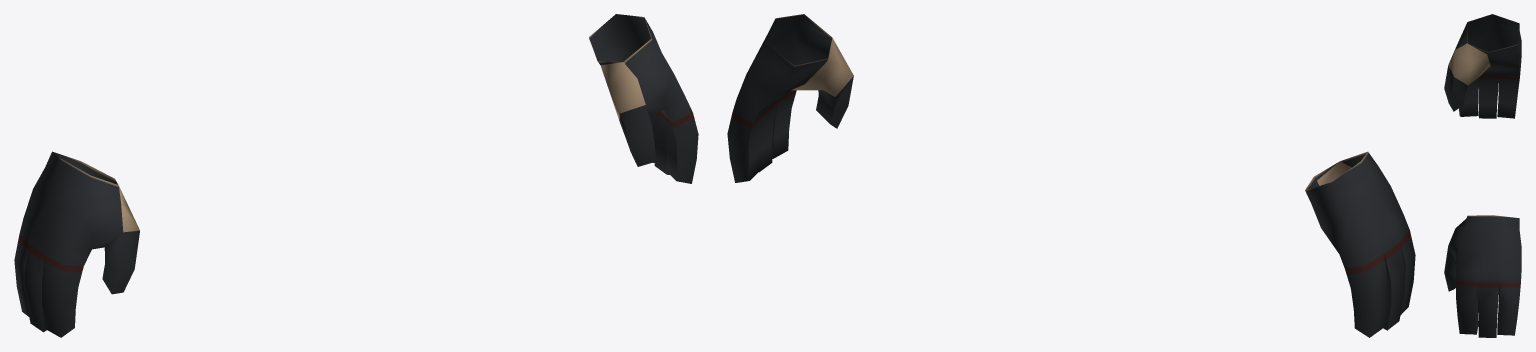
Rendered from hum_caster_01_3f86f97b.glb.
3 renders of one model, left to right at view 1: azimuth 30°, elevation 25°; view 2: azimuth 150°, elevation 25°; view 3: azimuth 270°, elevation 25°, orthographic. The views are drawn at different scales.
Size of the model in its own units: 1.7 by 0.3987 by 0.2485.
1 material, 1 textured.
